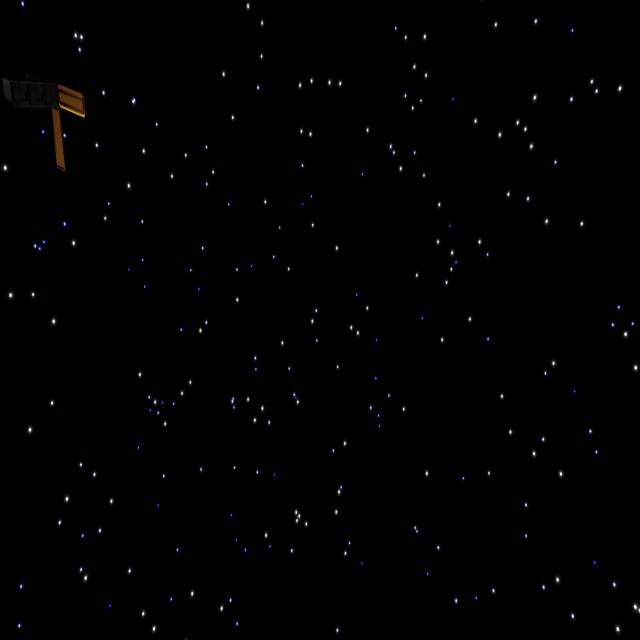medium_debris: (4, 59, 90, 174)
